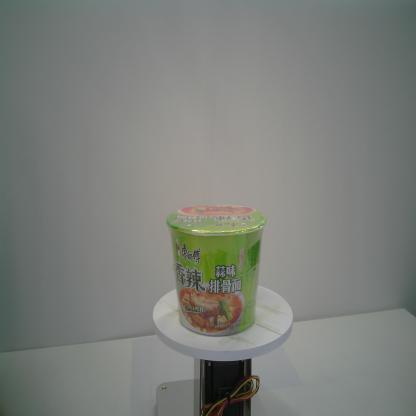Instant Noodles: (166, 204, 267, 338)
